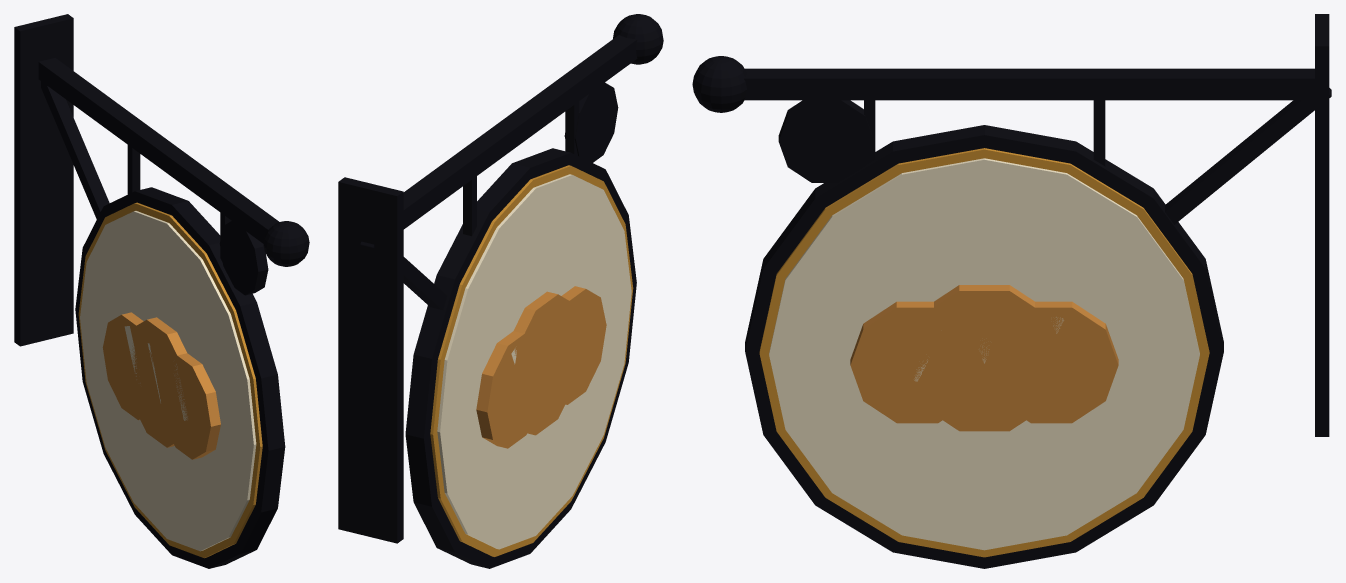
File: shop_bakery_sign.gltf
3 views of the same model, side by side, from view 1: azimuth 30°, elevation 25°; view 2: azimuth 150°, elevation 25°; view 3: azimuth 270°, elevation 25° (orthographic). The views are drawn at different scales.
Parts seen in each view (by area): view 1: ShopBakerySignShopIron, ShopBakerySignShopCream, ShopBakerySignShopBread, ShopBakerySignShopCloth; view 2: ShopBakerySignShopIron, ShopBakerySignShopCream, ShopBakerySignShopBread, ShopBakerySignShopCloth; view 3: ShopBakerySignShopCream, ShopBakerySignShopIron, ShopBakerySignShopBread, ShopBakerySignShopCloth.
Boxes of the visible parts, x1,y1,x2,y2 form: ShopBakerySignShopIron: (14,14,309,568); ShopBakerySignShopCream: (80,211,256,551); ShopBakerySignShopBread: (102,312,220,459); ShopBakerySignShopCloth: (78,202,262,558); ShopBakerySignShopIron: (338,14,663,568); ShopBakerySignShopCream: (437,174,631,549); ShopBakerySignShopBread: (476,286,606,448); ShopBakerySignShopCloth: (430,165,633,556); ShopBakerySignShopCream: (769,158,1199,550); ShopBakerySignShopIron: (692,14,1331,568); ShopBakerySignShopBread: (850,285,1118,431); ShopBakerySignShopCloth: (759,148,1209,557).
Size of the model in its own units: 0.16 by 1.23 by 1.33.
